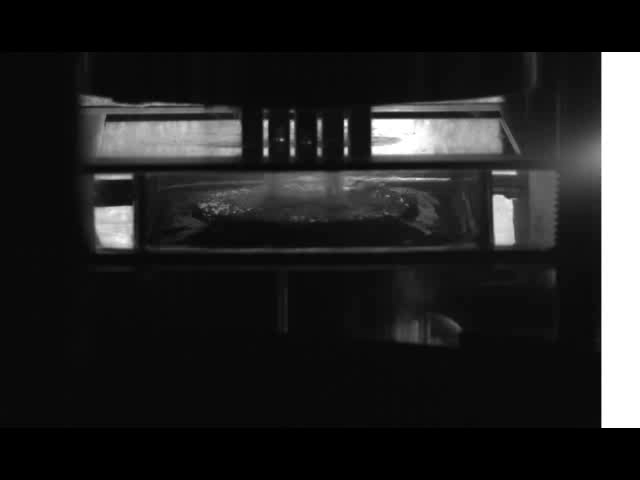Zona de teste: (198, 178, 409, 230)
